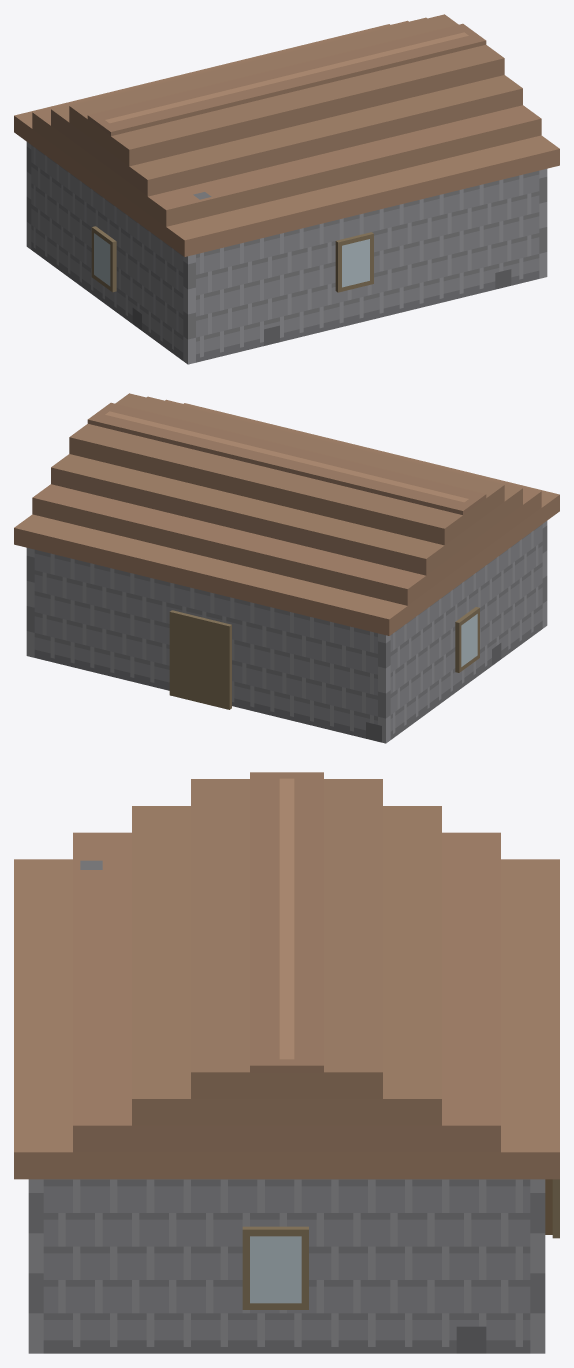
Rendered from fundicion_01.glb.
3 renders of one model, top to bottom at view 1: azimuth 30°, elevation 25°; view 2: azimuth 150°, elevation 25°; view 3: azimuth 270°, elevation 25°, orthographic. The views are drawn at different scales.
Parts seen in each view (by area): view 1: fundicion_01; view 2: fundicion_01; view 3: fundicion_01.
Part boxes in pixels (<box>): fundicion_01: <box>14,14,559,364</box>; fundicion_01: <box>14,393,559,743</box>; fundicion_01: <box>14,772,559,1353</box>.
Size of the model in its own units: 9.4 by 4.4 by 7.4.
